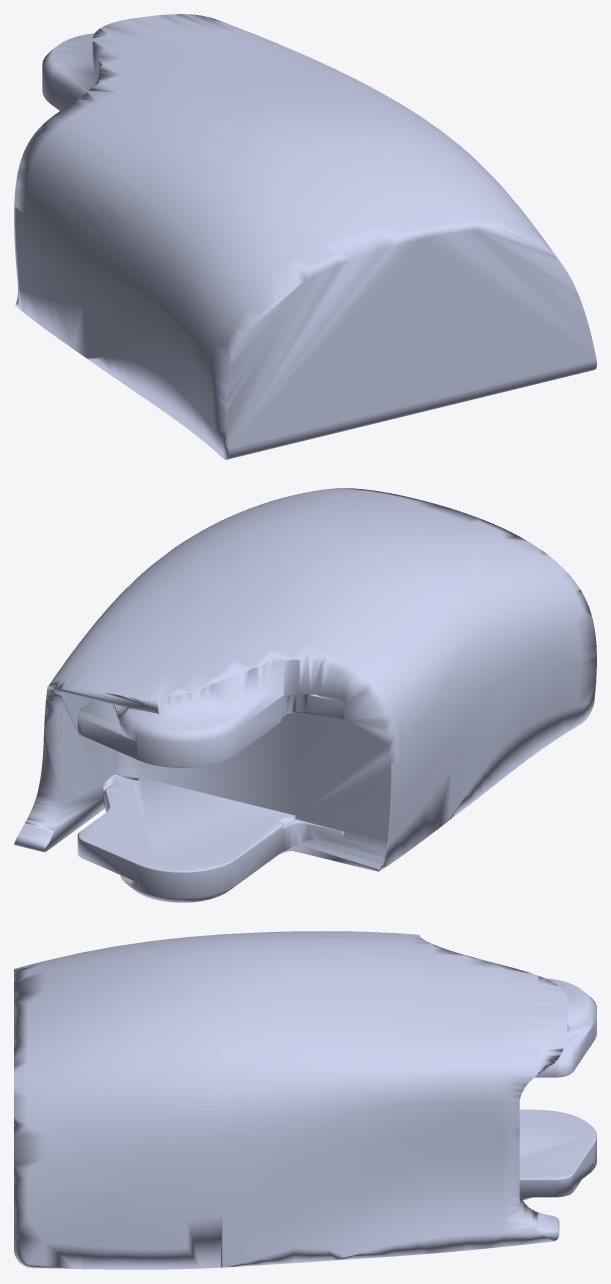
File: left_pinky_MC_visual_cad1ee.glb
3 views of the same model, one above another, from view 1: azimuth 30°, elevation 25°; view 2: azimuth 150°, elevation 25°; view 3: azimuth 270°, elevation 25° (orthographic). The views are drawn at different scales.
Parts seen in each view (by area): view 1: left_pinky_MC_visual_0; view 2: left_pinky_MC_visual_0; view 3: left_pinky_MC_visual_0.
Boxes of the visible parts, x1,y1,x2,y2 form: left_pinky_MC_visual_0: (14, 14, 596, 459); left_pinky_MC_visual_0: (14, 488, 596, 902); left_pinky_MC_visual_0: (14, 931, 596, 1269).
Bounding box in the file's own units: 0.0445 × 0.0251 × 0.0623.
